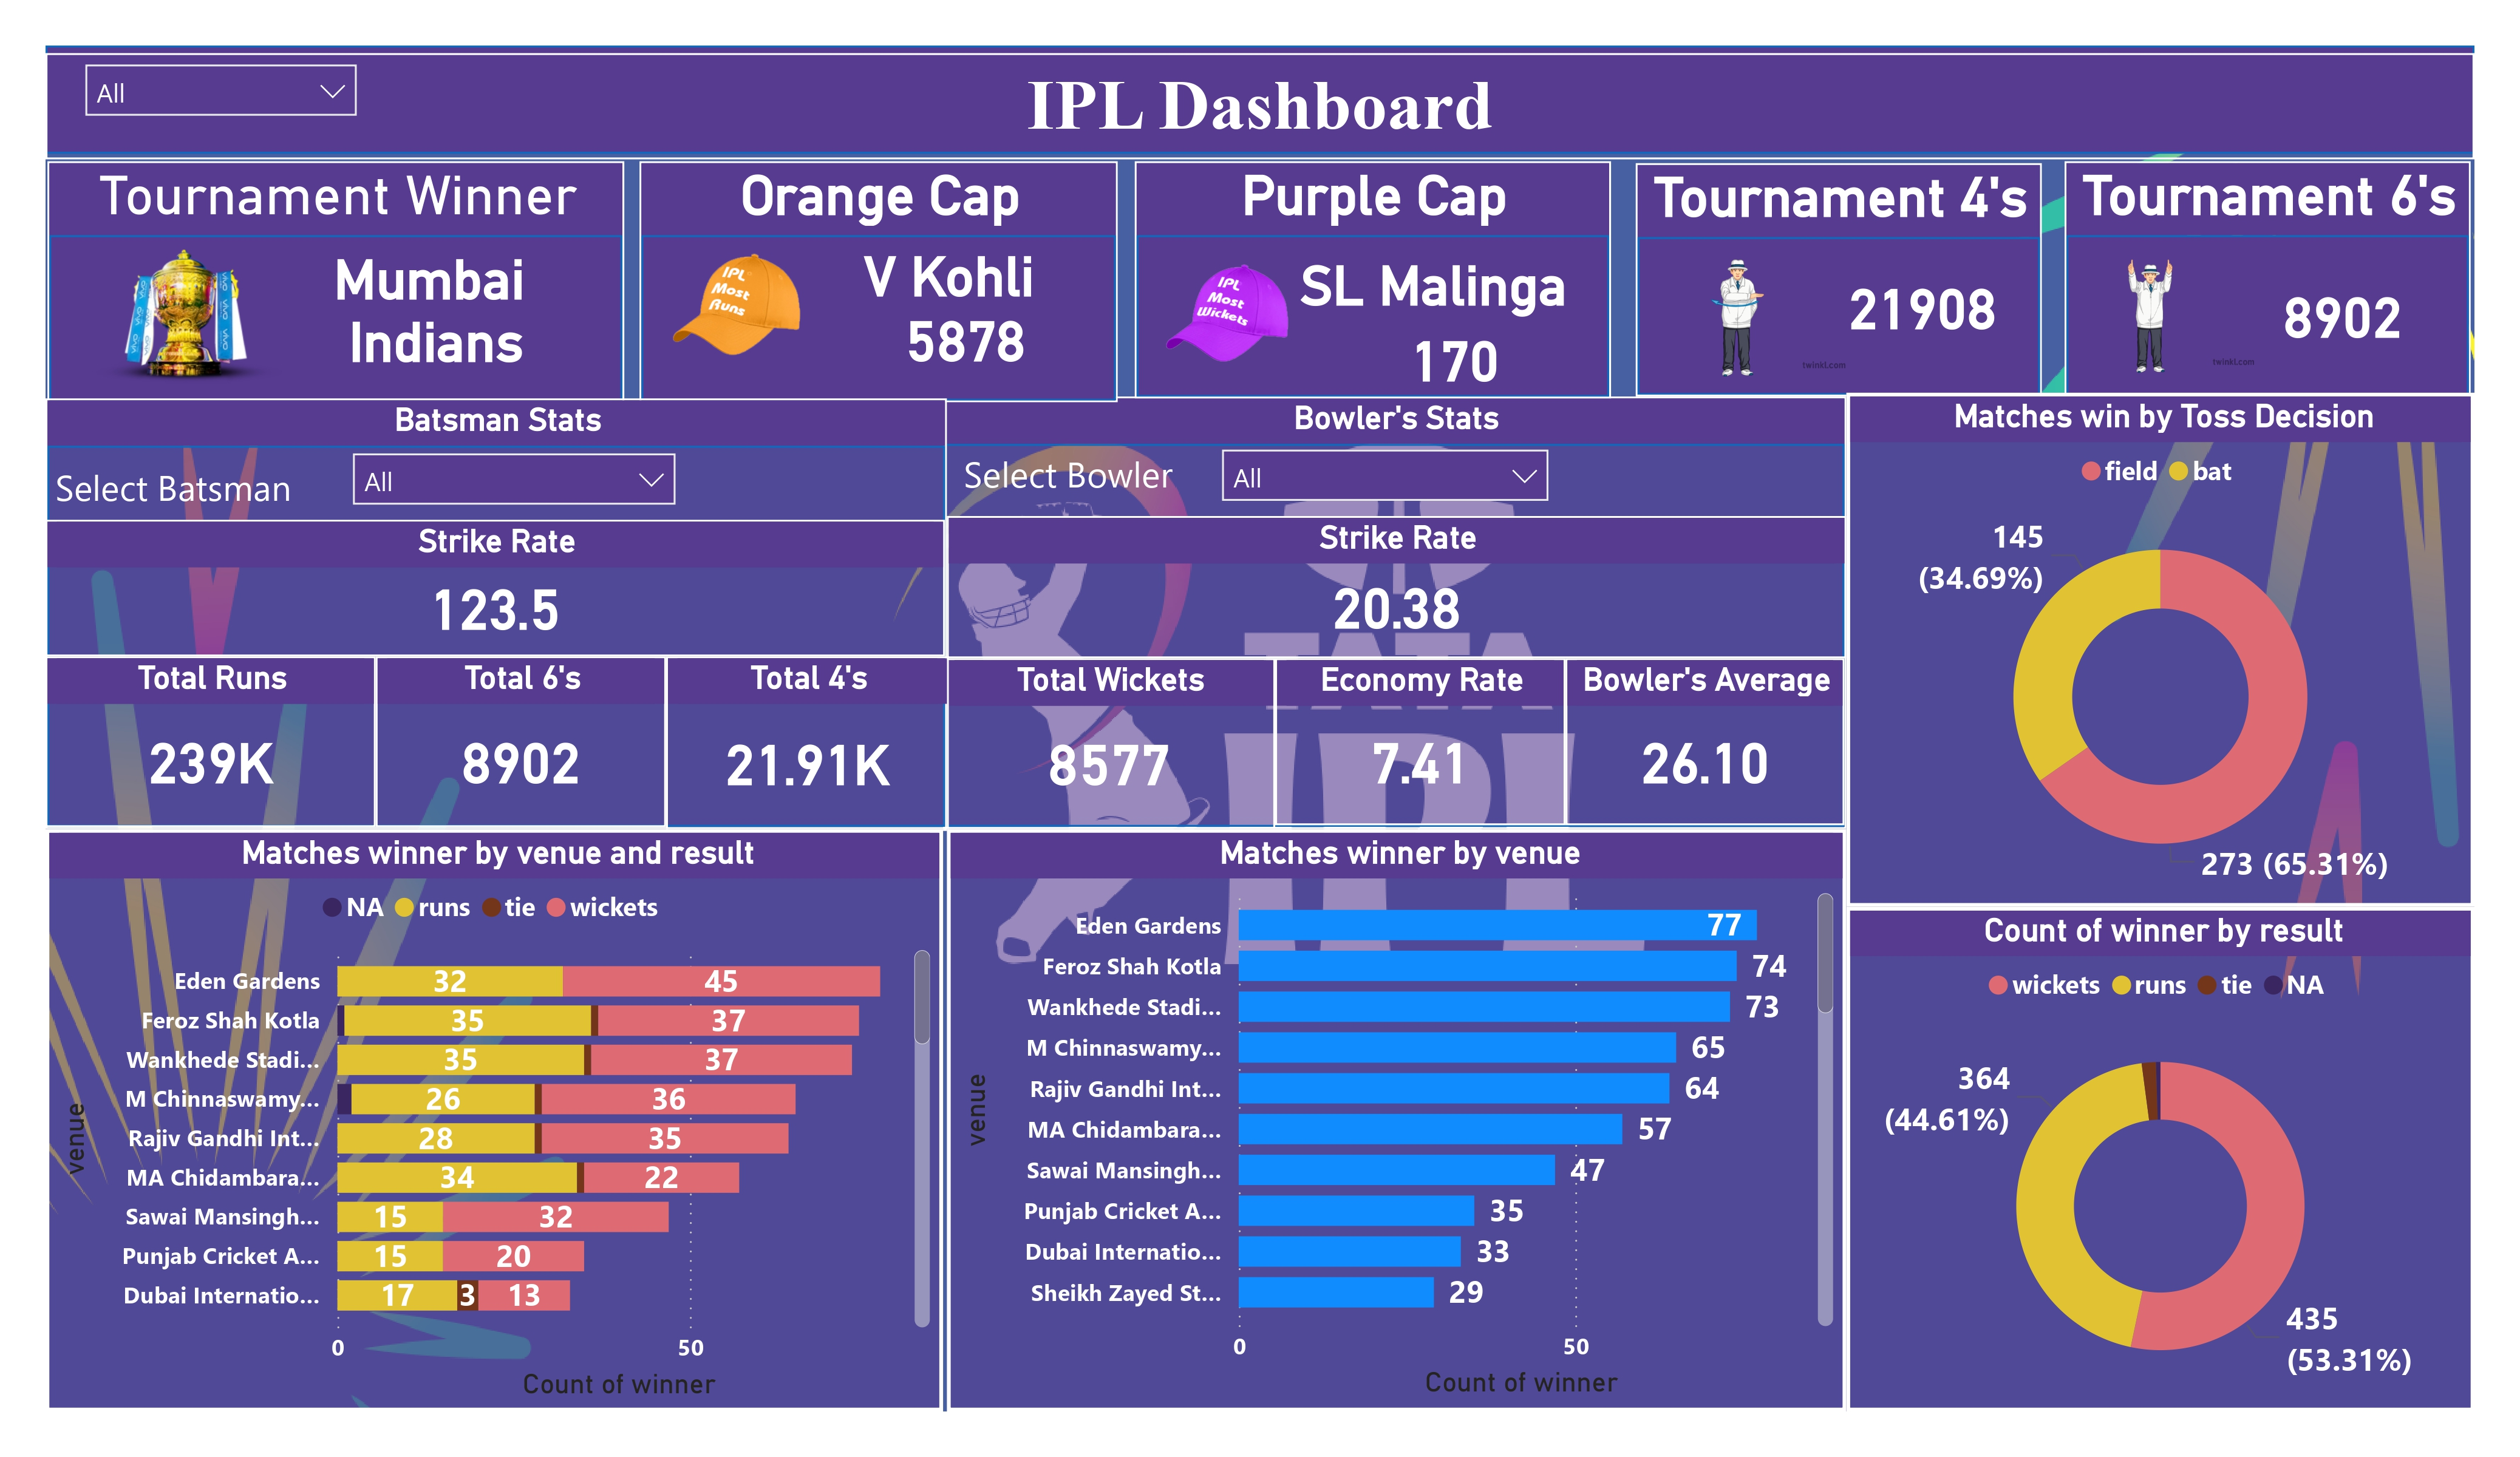

What the dashboard file says about the page in this screenshot:
{"tool":"powerbi","page":{"name":"IPL Dashboard","canvas":[1280,720],"ordinal":0},"visuals":[{"type":"shape","box":[0,0,1280,56.7],"z":0},{"type":"shape","title":"Batsman Stats","box":[0,186.3,475.3,226.8],"z":0,"group":"g4"},{"type":"textbox","box":[0,3.6,1280,56.7],"z":1000},{"type":"slicer","fields":{"Values":["Calender Table.Year"]},"box":[10.9,0,162.9,60.3],"z":2000},{"type":"textbox","box":[0,215.3,152,39.8],"z":2000,"group":"g4"},{"type":"shape","title":"Tournament Winner","box":[0.6,60.6,304.4,127],"z":3000,"group":"g3"},{"type":"shape","title":"Orange Cap","box":[313.3,60.6,252.1,126.7],"z":3000,"group":"g2"},{"type":"shape","title":"Bowler''s Stats","box":[473.2,184.7,476.1,228],"z":3000},{"type":"card","fields":{"Values":["Min(IPL Ball-by-Ball 2008-2020.batsman)"]},"box":[386.9,96.8,178.6,45.8],"z":4000,"group":"g2"},{"type":"image","box":[4.9,98.1,135.6,92.3],"z":4000,"group":"g3"},{"type":"textbox","box":[479,207.8,151.5,39],"z":4000},{"type":"card","title":"Total Runs","fields":{"Values":["Sum(IPL Ball-by-Ball 2008-2020.batsman_runs)"]},"box":[0,322.8,174,90],"z":4000,"group":"g4"},{"type":"card","title":"Tournament Winner","fields":{"Values":["IPL Matches 2008-2020.Title Winner"]},"box":[106.8,91.3,197.9,91.7],"z":5000,"group":"g3"},{"type":"card","fields":{"Values":["Sum(IPL Ball-by-Ball 2008-2020.batsman_runs)"]},"box":[440,124.5,89.3,57.9],"z":5000,"group":"g2"},{"type":"slicer","fields":{"Values":["IPL Ball-by-Ball 2008-2020.bowler"]},"box":[610.3,203.4,191.9,62],"z":5000},{"type":"image","box":[290.4,95.6,149.6,83.2],"z":6000,"group":"g2"},{"type":"card","title":"Total 4''s","fields":{"Values":["CountNonNull(IPL Ball-by-Ball 2008-2020.batsman_runs)"]},"box":[327.1,322.8,148.5,91.5],"z":6000,"group":"g4"},{"type":"card","title":"Total Wickets","fields":{"Values":["IPL Ball-by-Ball 2008-2020.Bowlers Wicket"]},"box":[473.2,323.2,174.6,89.5],"z":6000},{"type":"shape","title":"Purple Cap","box":[574.2,60.6,250.9,125.5],"z":7000,"group":"g1"},{"type":"donutChart","fields":{"Y":["CountNonNull(IPL Matches 2008-2020.winner)"],"Category":["IPL Matches 2008-2020.result"]},"box":[949.5,453.6,330.6,266.6],"z":7000},{"type":"group","id":"g1","title":"Group 3","box":[548.8,60.6,276.4,137.1],"z":8000},{"type":"image","box":[548.8,101.2,149.6,80.8],"z":8000,"group":"g1"},{"type":"card","fields":{"Values":["Min(IPL Ball-by-Ball 2008-2020.bowler)"]},"box":[639.3,89.1,184.6,70],"z":9000,"group":"g1"},{"type":"card","title":"Economy Rate","fields":{"Values":["IPL Ball-by-Ball 2008-2020.Bowler Economy Rate"]},"box":[647.8,323.2,152.9,88],"z":9000},{"type":"group","id":"g2","title":"Group 2","box":[290.4,60.6,275.1,126.7],"z":10000},{"type":"card","fields":{"Values":["Sum(IPL Ball-by-Ball 2008-2020.is_wicket)"]},"box":[677.9,130.1,129.1,67.6],"z":10000,"group":"g1"},{"type":"group","id":"g3","title":"Group 1","box":[0.6,60.6,304,130.3],"z":11000},{"type":"shape","title":"Tournament 6''s","box":[1064,60.9,213.5,125.5],"z":11500,"group":"g5"},{"type":"card","fields":{"Values":["CountNonNull(IPL Ball-by-Ball 2008-2020.batsman_runs)"]},"box":[1146.2,96.7,128.4,89.5],"z":12000,"group":"g5"},{"type":"slicer","fields":{"Values":["IPL Ball-by-Ball 2008-2020.batsman"]},"box":[151.5,205.7,190.5,61.5],"z":12000,"group":"g4"},{"type":"card","title":"Bowler''s Average","fields":{"Values":["IPL Ball-by-Ball 2008-2020.Bowling Average"]},"box":[800.7,323.2,147.2,88],"z":12000},{"type":"group","id":"g4","title":"Group 6","box":[0,186.3,476.4,227.6],"z":13000},{"type":"shape","title":"Tournament 4''s","box":[838.1,61.7,213.5,122.6],"z":14000,"group":"g6"},{"type":"card","title":"Strike Rate","fields":{"Values":["IPL Ball-by-Ball 2008-2020.Bowling Strike Rate"]},"box":[474.7,248.2,474.7,75],"z":14000},{"type":"card","fields":{"Values":["CountNonNull(IPL Ball-by-Ball 2008-2020.batsman_runs)"]},"box":[903,92,171.7,89.5],"z":15000,"group":"g6"},{"type":"card","title":"Total 6''s","fields":{"Values":["CountNonNull(IPL Ball-by-Ball 2008-2020.batsman_runs)"]},"box":[174,322.8,153,90],"z":15000,"group":"g4"},{"type":"barChart","title":"Matches winner by venue and result","fields":{"Y":["CountNonNull(IPL Matches 2008-2020.winner)"],"Category":["IPL Matches 2008-2020.venue"],"Series":["IPL Matches 2008-2020.result"]},"box":[0,412.6,473.2,307.3],"z":15000},{"type":"group","id":"g5","title":"Group 4","box":[1041,60.9,236.6,135.6],"z":16000},{"type":"image","box":[1041,88,135.6,108.2],"z":16000,"group":"g5"},{"type":"image","box":[820.8,100.7,141.4,85.1],"z":16000,"group":"g6"},{"type":"card","title":"Strike Rate","fields":{"Values":["IPL Ball-by-Ball 2008-2020.Strike Rate"]},"box":[0,250.2,474.1,72.4],"z":16000,"group":"g4"},{"type":"group","id":"g6","title":"Group 5","box":[820.8,61.7,253.9,124.1],"z":17000},{"type":"donutChart","title":"Matches win by Toss Decision","fields":{"Y":["IPL Matches 2008-2020.Matches win by Toss Decision"],"Category":["IPL Matches 2008-2020.toss_decision"]},"box":[949.5,183.4,330.6,270.2],"z":18000},{"type":"barChart","title":"Matches winner by venue","fields":{"Y":["CountNonNull(IPL Matches 2008-2020.winner)"],"Category":["IPL Matches 2008-2020.venue"]},"box":[474.7,412.6,474.7,307.3],"z":18001}]}

Visuals, with their boxes in screenshot pixels (x1, y1, x2, y2):
shape: x1=59 y1=46 x2=2456 y2=152
"Batsman Stats" shape: x1=59 y1=395 x2=949 y2=820
textbox: x1=59 y1=53 x2=2456 y2=159
slicer - Calender Table.Year: x1=80 y1=46 x2=384 y2=159
textbox: x1=59 y1=449 x2=344 y2=523
"Tournament Winner" shape: x1=60 y1=160 x2=630 y2=397
"Orange Cap" shape: x1=645 y1=160 x2=1118 y2=396
"Bowler''s Stats" shape: x1=945 y1=392 x2=1837 y2=818
card - Min(IPL Ball-by-Ball 2008-2020.batsman): x1=783 y1=227 x2=1118 y2=313
image: x1=68 y1=229 x2=322 y2=402
textbox: x1=956 y1=435 x2=1240 y2=508
"Total Runs" card: x1=59 y1=650 x2=385 y2=819
"Tournament Winner" card: x1=259 y1=217 x2=630 y2=389
card - Sum(IPL Ball-by-Ball 2008-2020.batsman_runs): x1=883 y1=279 x2=1051 y2=387
slicer - IPL Ball-by-Ball 2008-2020.bowler: x1=1202 y1=427 x2=1561 y2=543
image: x1=603 y1=225 x2=883 y2=381
"Total 4''s" card: x1=672 y1=650 x2=950 y2=821
"Total Wickets" card: x1=945 y1=651 x2=1272 y2=818
"Purple Cap" shape: x1=1134 y1=160 x2=1604 y2=395
donutChart - CountNonNull(IPL Matches 2008-2020.winner) x IPL Matches 2008-2020.result: x1=1837 y1=895 x2=2456 y2=1394
"Group 3" group: x1=1087 y1=160 x2=1604 y2=416
image: x1=1087 y1=236 x2=1367 y2=387
card - Min(IPL Ball-by-Ball 2008-2020.bowler): x1=1256 y1=212 x2=1602 y2=344
"Economy Rate" card: x1=1272 y1=651 x2=1559 y2=816
"Group 2" group: x1=603 y1=160 x2=1118 y2=396
card - Sum(IPL Ball-by-Ball 2008-2020.is_wicket): x1=1329 y1=290 x2=1570 y2=416
"Group 1" group: x1=60 y1=160 x2=630 y2=403
"Tournament 6''s" shape: x1=2052 y1=160 x2=2451 y2=395
card - CountNonNull(IPL Ball-by-Ball 2008-2020.batsman_runs): x1=2205 y1=227 x2=2446 y2=395
slicer - IPL Ball-by-Ball 2008-2020.batsman: x1=342 y1=431 x2=700 y2=546
"Bowler''s Average" card: x1=1559 y1=651 x2=1834 y2=816
"Group 6" group: x1=59 y1=395 x2=951 y2=821
"Tournament 4''s" shape: x1=1629 y1=161 x2=2028 y2=391
"Strike Rate" card: x1=948 y1=511 x2=1837 y2=651
card - CountNonNull(IPL Ball-by-Ball 2008-2020.batsman_runs): x1=1750 y1=218 x2=2072 y2=385
"Total 6''s" card: x1=385 y1=650 x2=672 y2=819
"Matches winner by venue and result" barChart: x1=59 y1=818 x2=945 y2=1394
"Group 4" group: x1=2009 y1=160 x2=2451 y2=414
image: x1=2009 y1=211 x2=2263 y2=413
image: x1=1596 y1=234 x2=1861 y2=394
"Strike Rate" card: x1=59 y1=514 x2=947 y2=650
"Group 5" group: x1=1596 y1=161 x2=2072 y2=394
"Matches win by Toss Decision" donutChart: x1=1837 y1=389 x2=2456 y2=895
"Matches winner by venue" barChart: x1=948 y1=818 x2=1837 y2=1394
